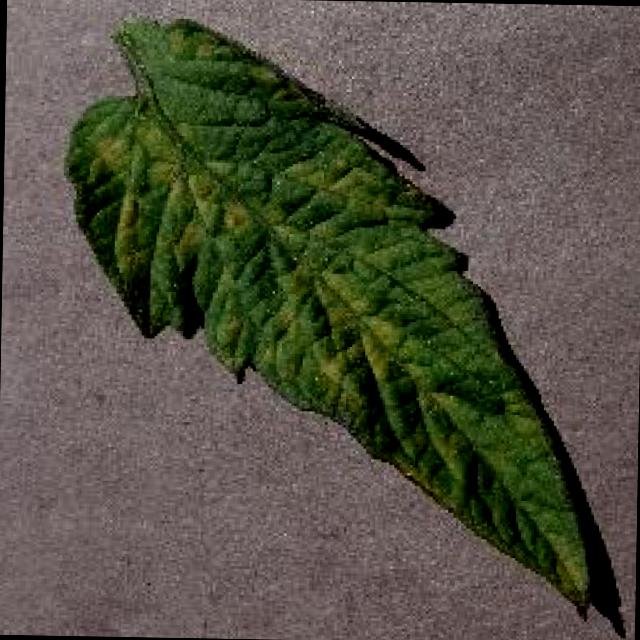leaf mold: (64, 14, 589, 616)
